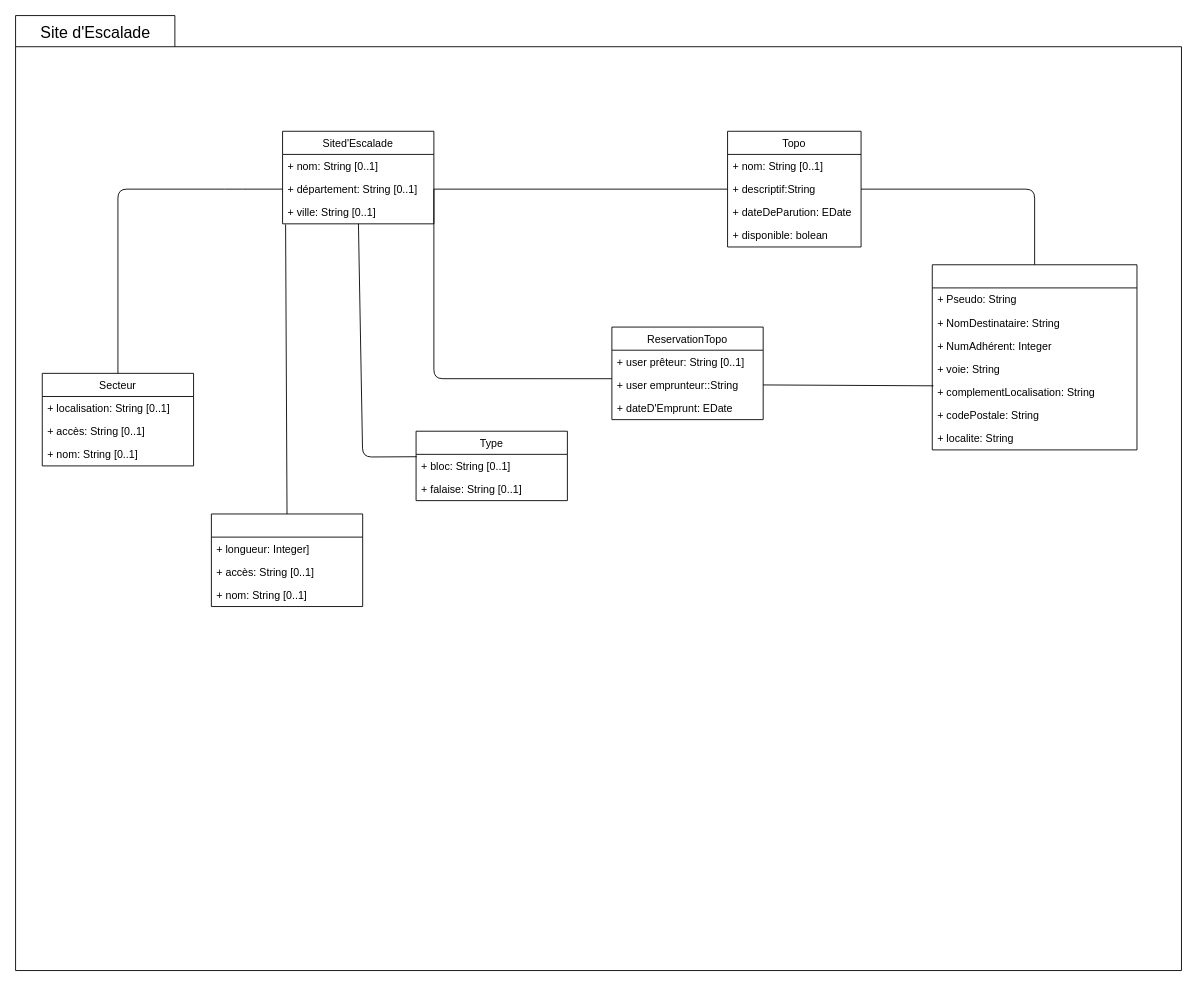
The diagram is 1197 pixels wide and 986 high, and some of its shapes have lost their labels. The box of each missing label's shape, as (x1, y1, x2, y2) in pixels:
User: (931, 264, 1137, 450)
Voie: (210, 513, 363, 607)
